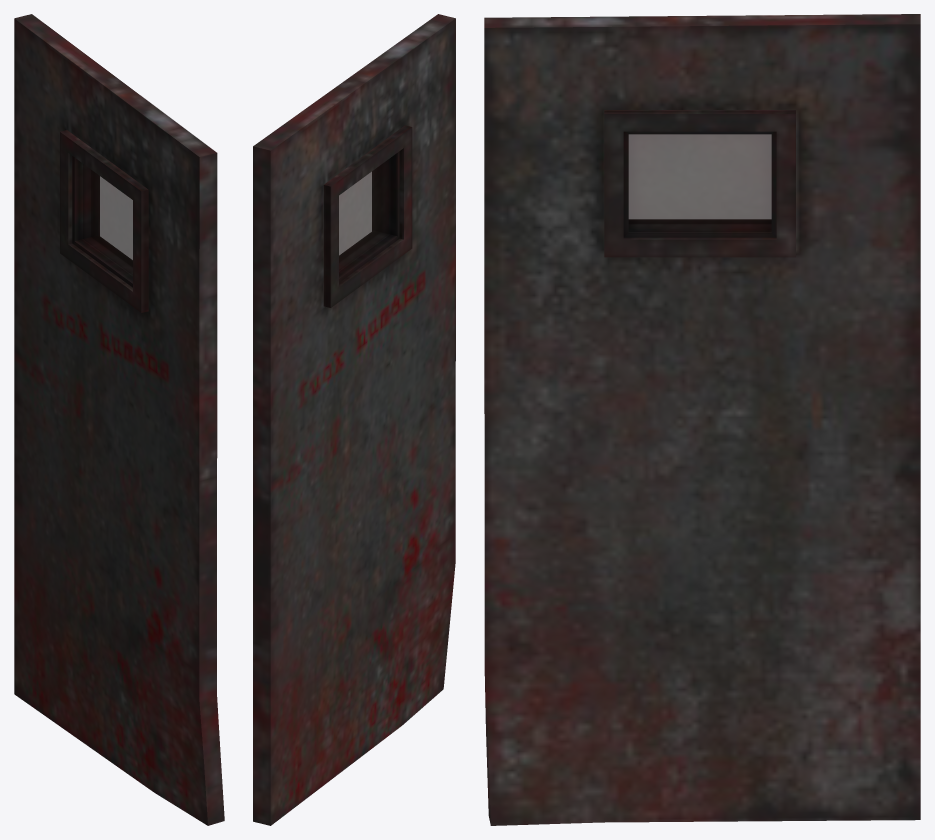
File: TR_Door_01.FBX
3 views of the same model, side by side, from view 1: azimuth 30°, elevation 25°; view 2: azimuth 150°, elevation 25°; view 3: azimuth 270°, elevation 25° (orthographic). The views are drawn at different scales.
Visible parts, largest first — view 1: TR_Door_01; view 2: TR_Door_01; view 3: TR_Door_01.
Boxes of the visible parts, left/top/right/bottom form: TR_Door_01: left=14, top=14, right=224, bottom=825; TR_Door_01: left=253, top=14, right=455, bottom=825; TR_Door_01: left=484, top=14, right=920, bottom=825.
Bounding box in the file's own units: 11.47 × 210 × 105.
2 materials, 2 textured.
